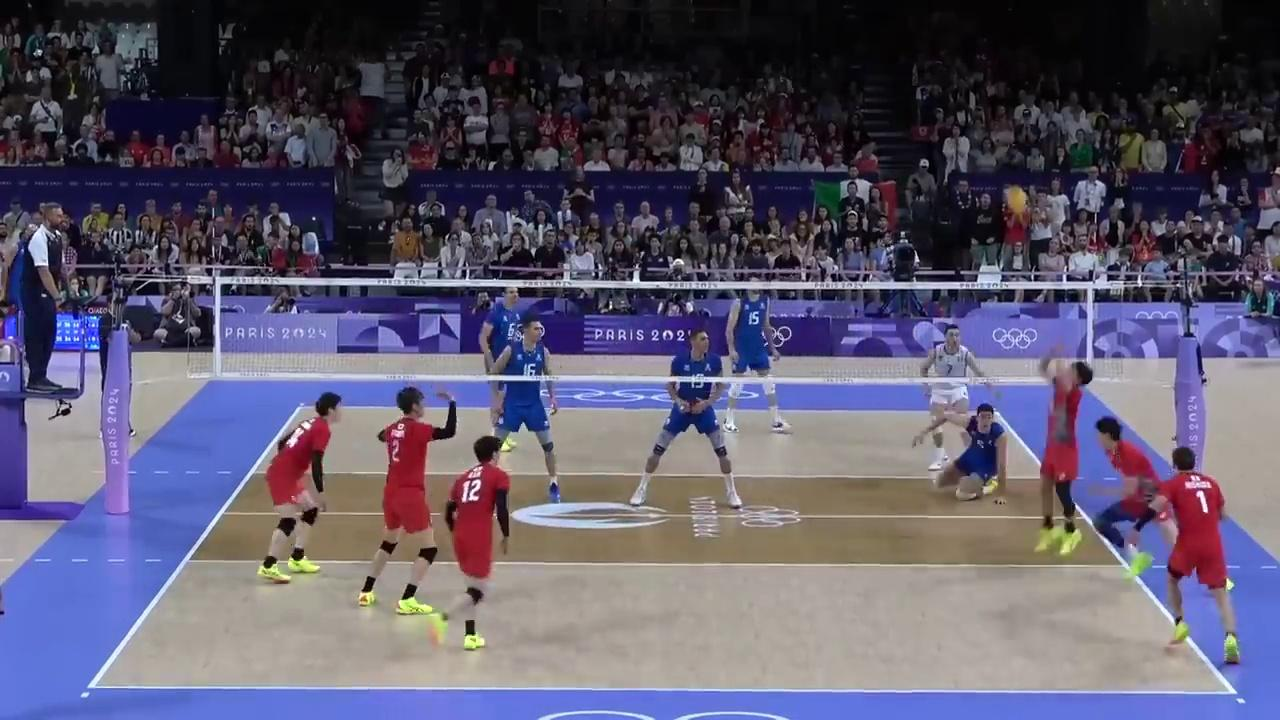ball: (1005, 186, 1028, 215)
